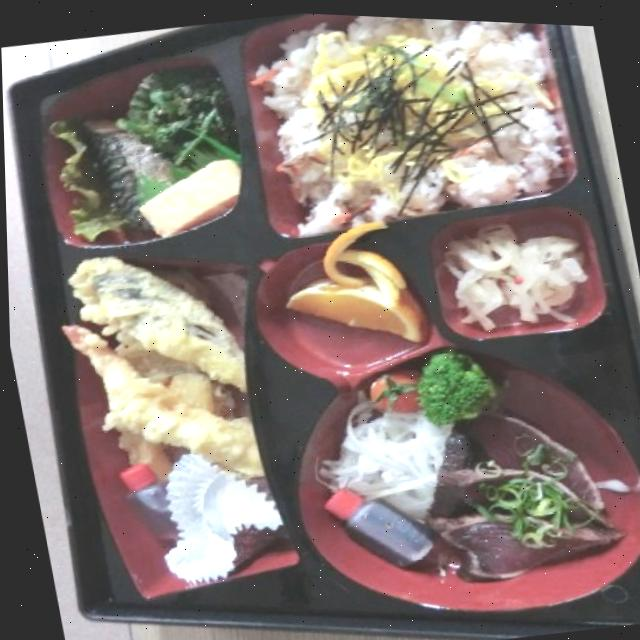米饭主食: (202, 7, 607, 270)
